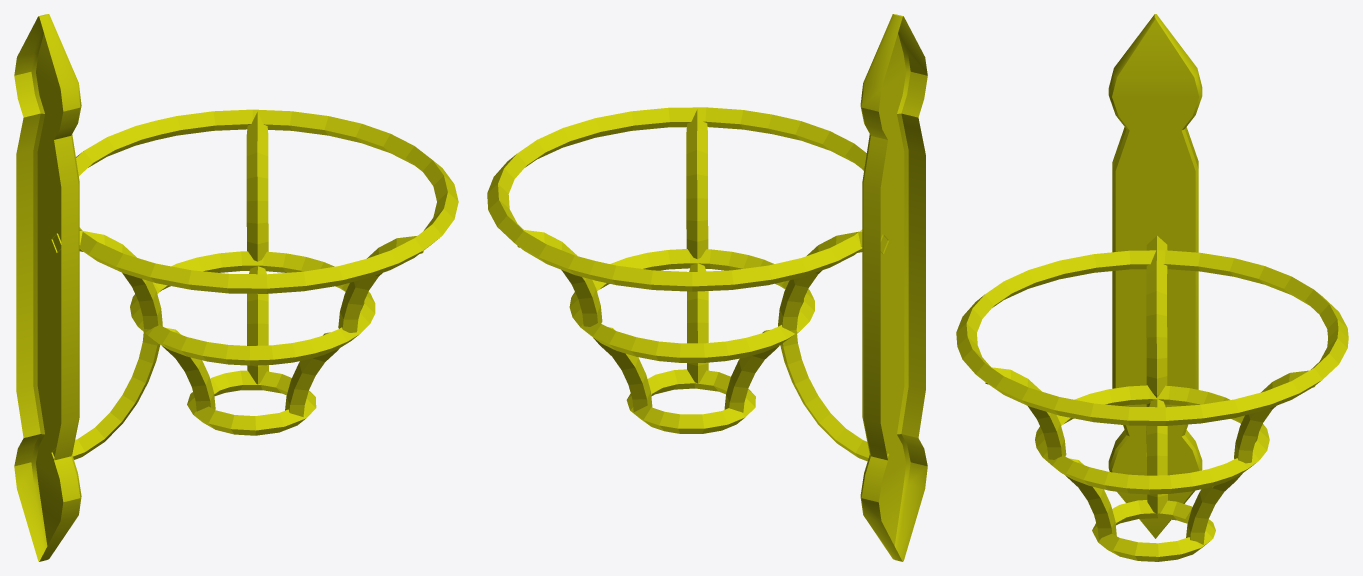
Rendered from dfk_wall_lamp_02.fbx.
The picture shows the model from 3 angles, left to right: view 1: azimuth 30°, elevation 25°; view 2: azimuth 150°, elevation 25°; view 3: azimuth 270°, elevation 25°; orthographic projection. The views are drawn at different scales.
Visible parts, largest first — view 1: WallLamp02; view 2: WallLamp02; view 3: WallLamp02.
Part boxes in pixels (x1,y1,x2,y2): WallLamp02: (14,14,458,561); WallLamp02: (487,14,927,561); WallLamp02: (956,14,1348,561).
Bounding box in the file's own units: 0.4589 × 0.6125 × 0.4187.
